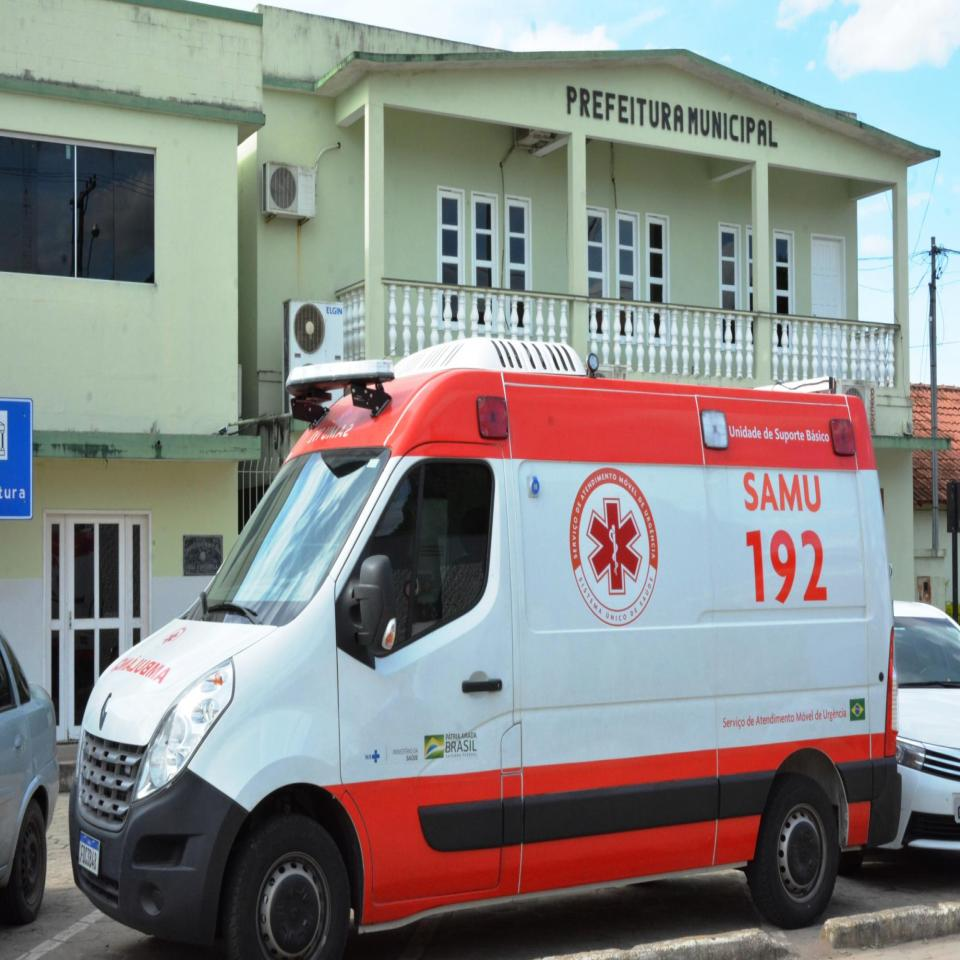bombeiro: (69, 326, 908, 960)
